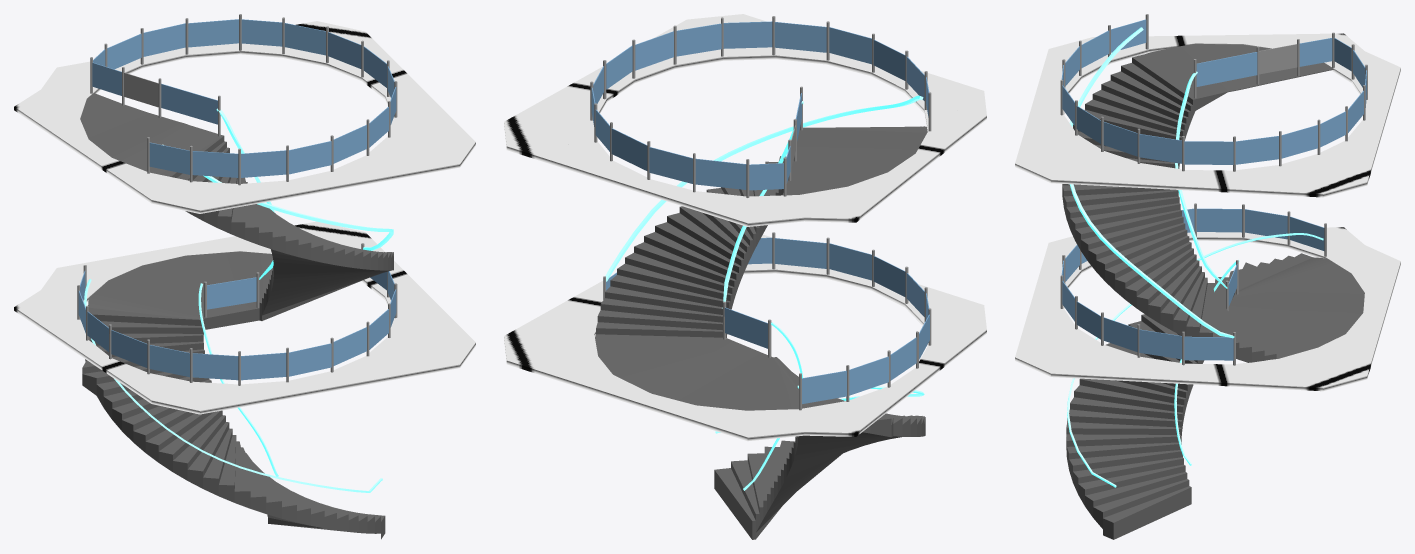
File: spiral steps bio.fbx
3 renders of one model, left to right at view 1: azimuth 30°, elevation 25°; view 2: azimuth 150°, elevation 25°; view 3: azimuth 270°, elevation 25°, orthographic. The views are drawn at different scales.
Parts seen in each view (by area): view 1: Stairs1, polySurface2026, polySurface2049, polySurface2128, polySurface2115, polySurface2079, polySurface2140, polySurface2092, polySurface2095, polySurface2143, polySurface2096, polySurface2144 (+16 smaller); view 2: Stairs1, polySurface2026, polySurface2049, pCube6, polySurface2146, polySurface2098, polySurface2119, polySurface2100, polySurface2101, polySurface2129, polySurface2117, polySurface2079 (+10 smaller); view 3: Stairs1, polySurface2026, polySurface2049, pCube6, polySurface2128, polySurface2153, polySurface2105, polySurface2134, polySurface2109, polySurface2151, polySurface2103, polySurface2130 (+13 smaller).
Part boxes in pixels (x1,y1,x2,y2): Stairs1: (80, 93, 393, 539); polySurface2026: (14, 21, 475, 213); polySurface2049: (14, 221, 475, 414); polySurface2128: (161, 83, 217, 124); polySurface2115: (188, 19, 238, 47); polySurface2079: (207, 277, 256, 309); polySurface2140: (192, 353, 238, 380); polySurface2092: (192, 151, 238, 177); polySurface2095: (241, 150, 286, 177); polySurface2143: (241, 352, 286, 380); polySurface2096: (289, 141, 331, 174); polySurface2144: (289, 343, 331, 376); Stairs1: (595, 126, 927, 539); polySurface2026: (504, 14, 986, 226); polySurface2049: (504, 234, 986, 441); pCube6: (605, 95, 923, 281); polySurface2146: (774, 238, 826, 268); polySurface2098: (774, 22, 826, 52); polySurface2119: (695, 158, 746, 189); polySurface2100: (723, 21, 772, 48); polySurface2101: (676, 23, 721, 56); polySurface2129: (802, 370, 846, 403); polySurface2117: (649, 147, 692, 183); polySurface2079: (724, 307, 767, 348); Stairs1: (1062, 43, 1364, 539); polySurface2026: (1015, 33, 1400, 197); polySurface2049: (1015, 227, 1400, 391); pCube6: (1069, 27, 1234, 338); polySurface2128: (1196, 52, 1257, 86); polySurface2153: (1184, 336, 1233, 360); polySurface2105: (1184, 141, 1233, 164); polySurface2134: (1196, 208, 1242, 232); polySurface2109: (1235, 136, 1278, 164); polySurface2151: (1139, 329, 1181, 359); polySurface2103: (1139, 134, 1181, 163); polySurface2130: (1245, 209, 1287, 239).
Size of the model in its own units: 1214 by 1488 by 1234.
